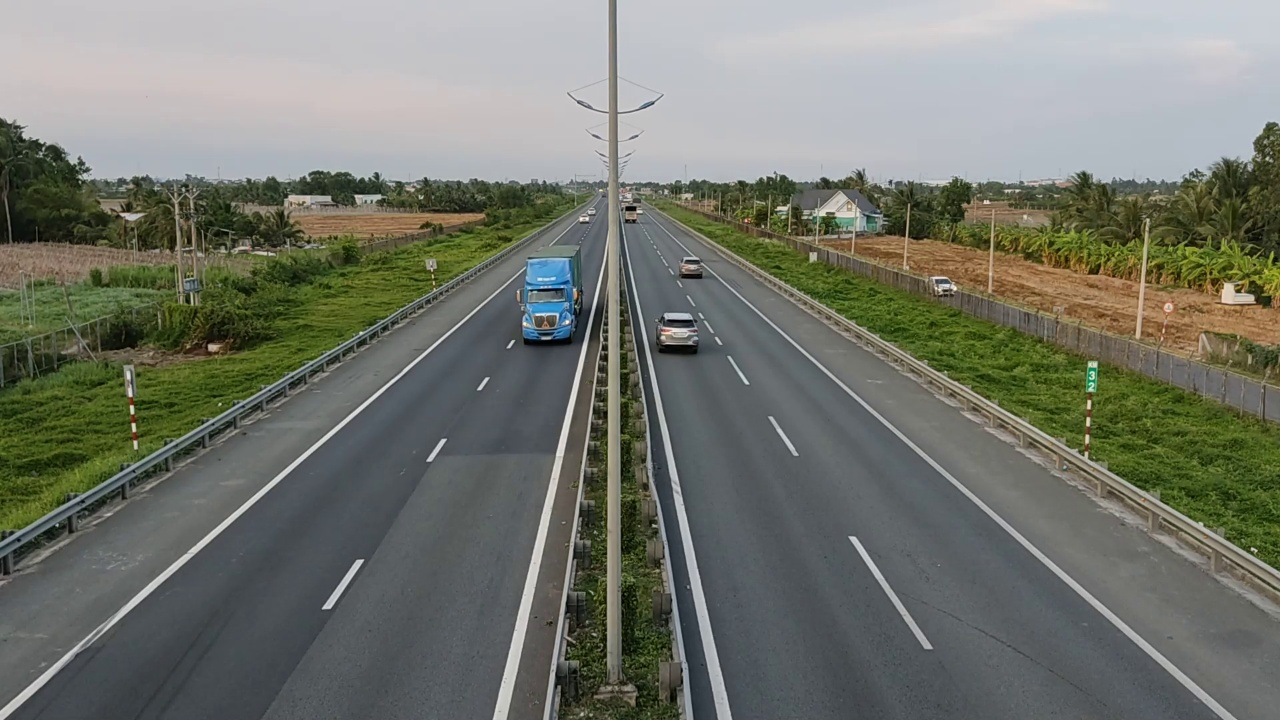car: (655, 310, 700, 353), (929, 275, 958, 298), (679, 257, 703, 278)
truck: (520, 244, 584, 343)
